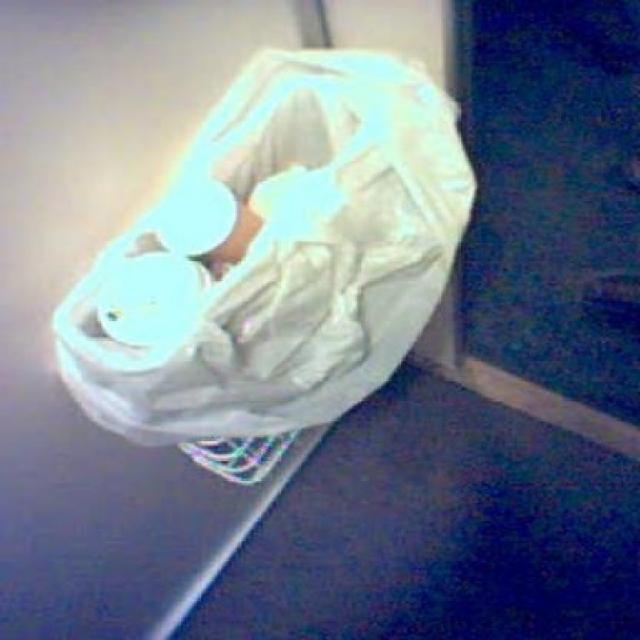plastic bag: (56, 40, 476, 449)
